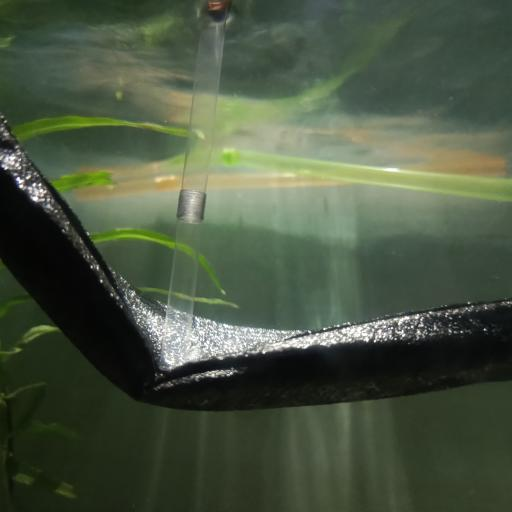mask: (0, 102, 512, 413)
plastic_straw: (144, 11, 225, 512), (93, 145, 512, 205), (77, 159, 512, 203)
